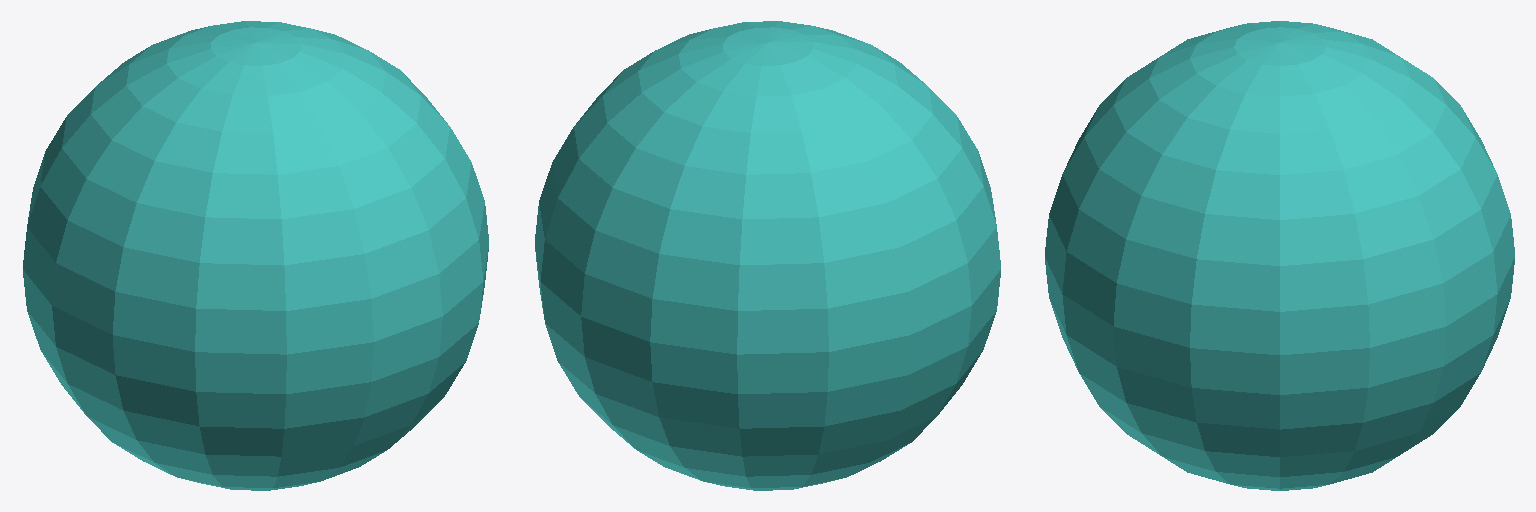
Rendered from Sphere_msh_blue.obj.
3 renders of one model, left to right at view 1: azimuth 30°, elevation 25°; view 2: azimuth 150°, elevation 25°; view 3: azimuth 270°, elevation 25°, orthographic.
Parts seen in each view (by area): view 1: Sphere_msh; view 2: Sphere_msh; view 3: Sphere_msh.
Part boxes in pixels (x1,y1,x2,y2): Sphere_msh: (23, 21, 488, 490); Sphere_msh: (535, 21, 1000, 490); Sphere_msh: (1045, 21, 1514, 490).
Bounding box in the file's own units: 39.61 × 39.61 × 39.61.